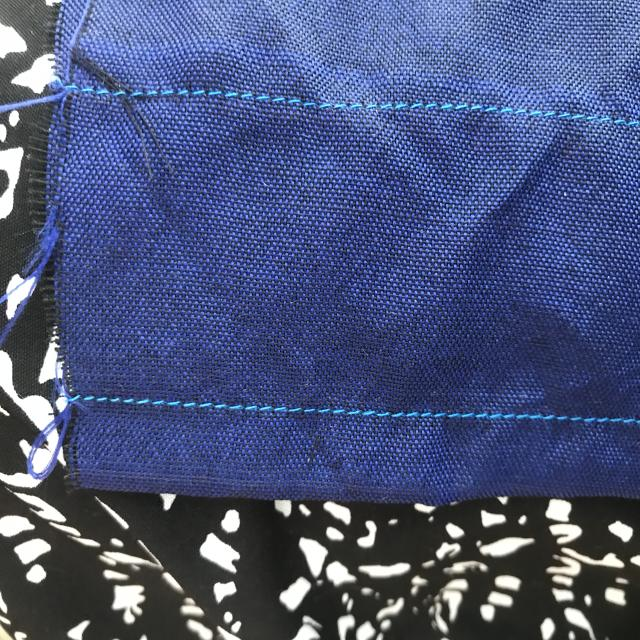good: (199, 388, 415, 434), (441, 403, 608, 435), (434, 95, 574, 128), (169, 83, 286, 111), (96, 388, 188, 419)
